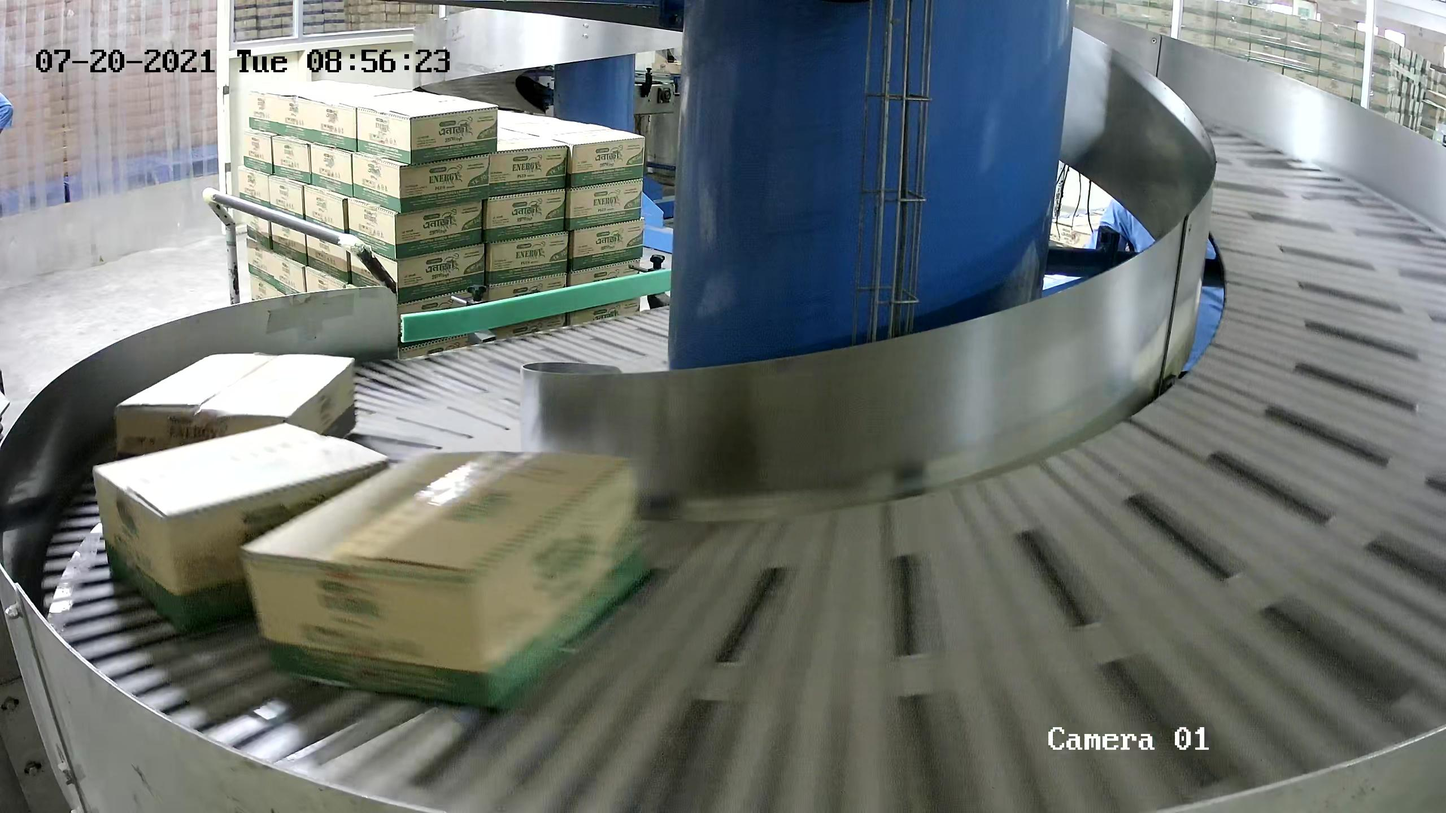Box: (235, 444, 651, 713), (91, 420, 391, 637), (112, 351, 357, 459)
